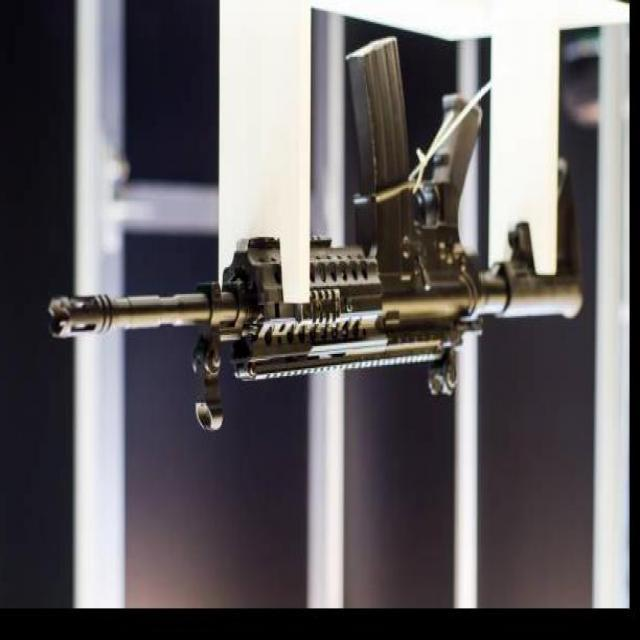weapon: (48, 36, 586, 428)
